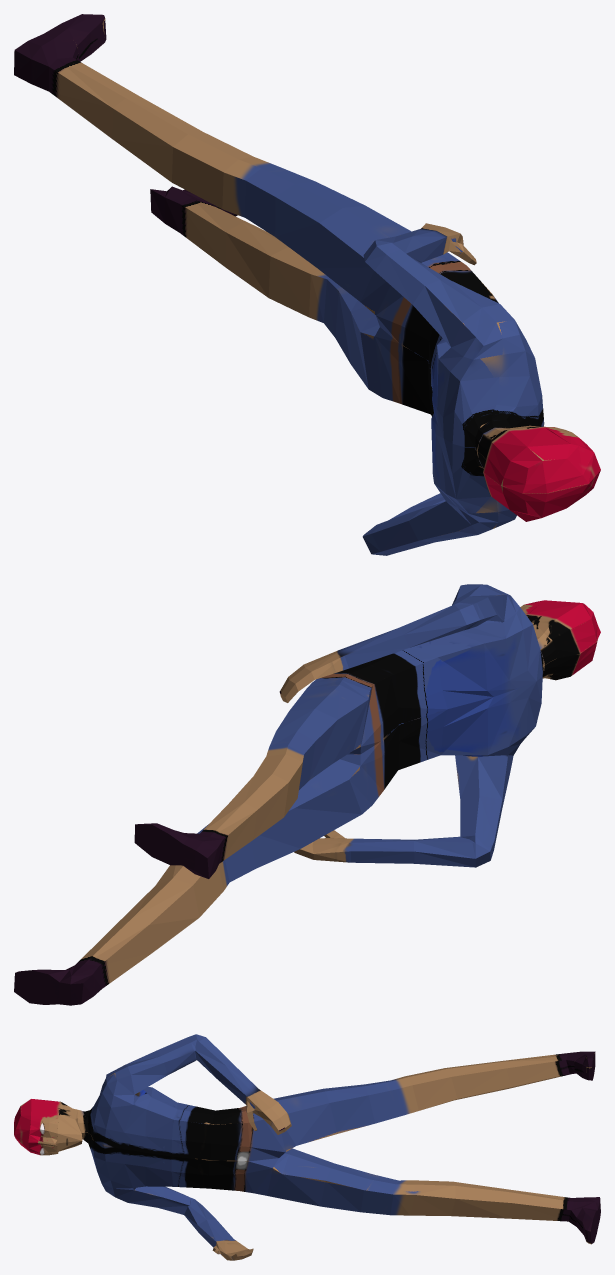
Rendered from mirrorman_000014.obj.
3 views of the same model, one above another, from view 1: azimuth 30°, elevation 25°; view 2: azimuth 150°, elevation 25°; view 3: azimuth 270°, elevation 25° (orthographic). The views are drawn at different scales.
Parts seen in each view (by area): view 1: mirrorman_Cube.001_Material.001; view 2: mirrorman_Cube.001_Material.001; view 3: mirrorman_Cube.001_Material.001.
Part boxes in pixels (left/top/right/bottom): mirrorman_Cube.001_Material.001: left=14, top=14, right=600, bottom=555; mirrorman_Cube.001_Material.001: left=14, top=584, right=600, bottom=1005; mirrorman_Cube.001_Material.001: left=14, top=1034, right=600, bottom=1260.
Bounding box in the file's own units: 0.5016 × 0.6431 × 1.87.
1 material, 1 textured.
